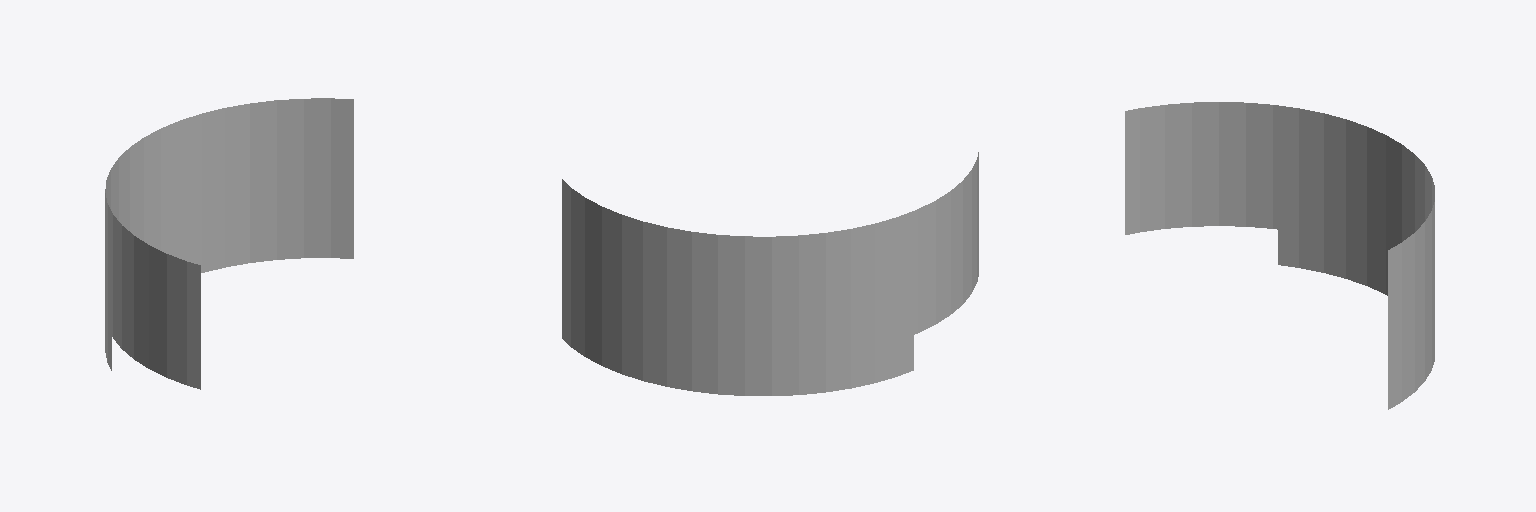
Rendered from RaceStart 3.obj.
3 renders of one model, left to right at view 1: azimuth 30°, elevation 25°; view 2: azimuth 150°, elevation 25°; view 3: azimuth 270°, elevation 25°, orthographic.
Parts seen in each view (by area): view 1: 12.0.921.0; view 2: 12.0.921.0; view 3: 12.0.921.0.
Boxes of the visible parts, x1,y1,x2,y2 form: 12.0.921.0: [105, 98, 353, 389]; 12.0.921.0: [562, 152, 978, 395]; 12.0.921.0: [1125, 102, 1434, 409].
Size of the model in its own units: 13.99 by 7.02 by 12.36.